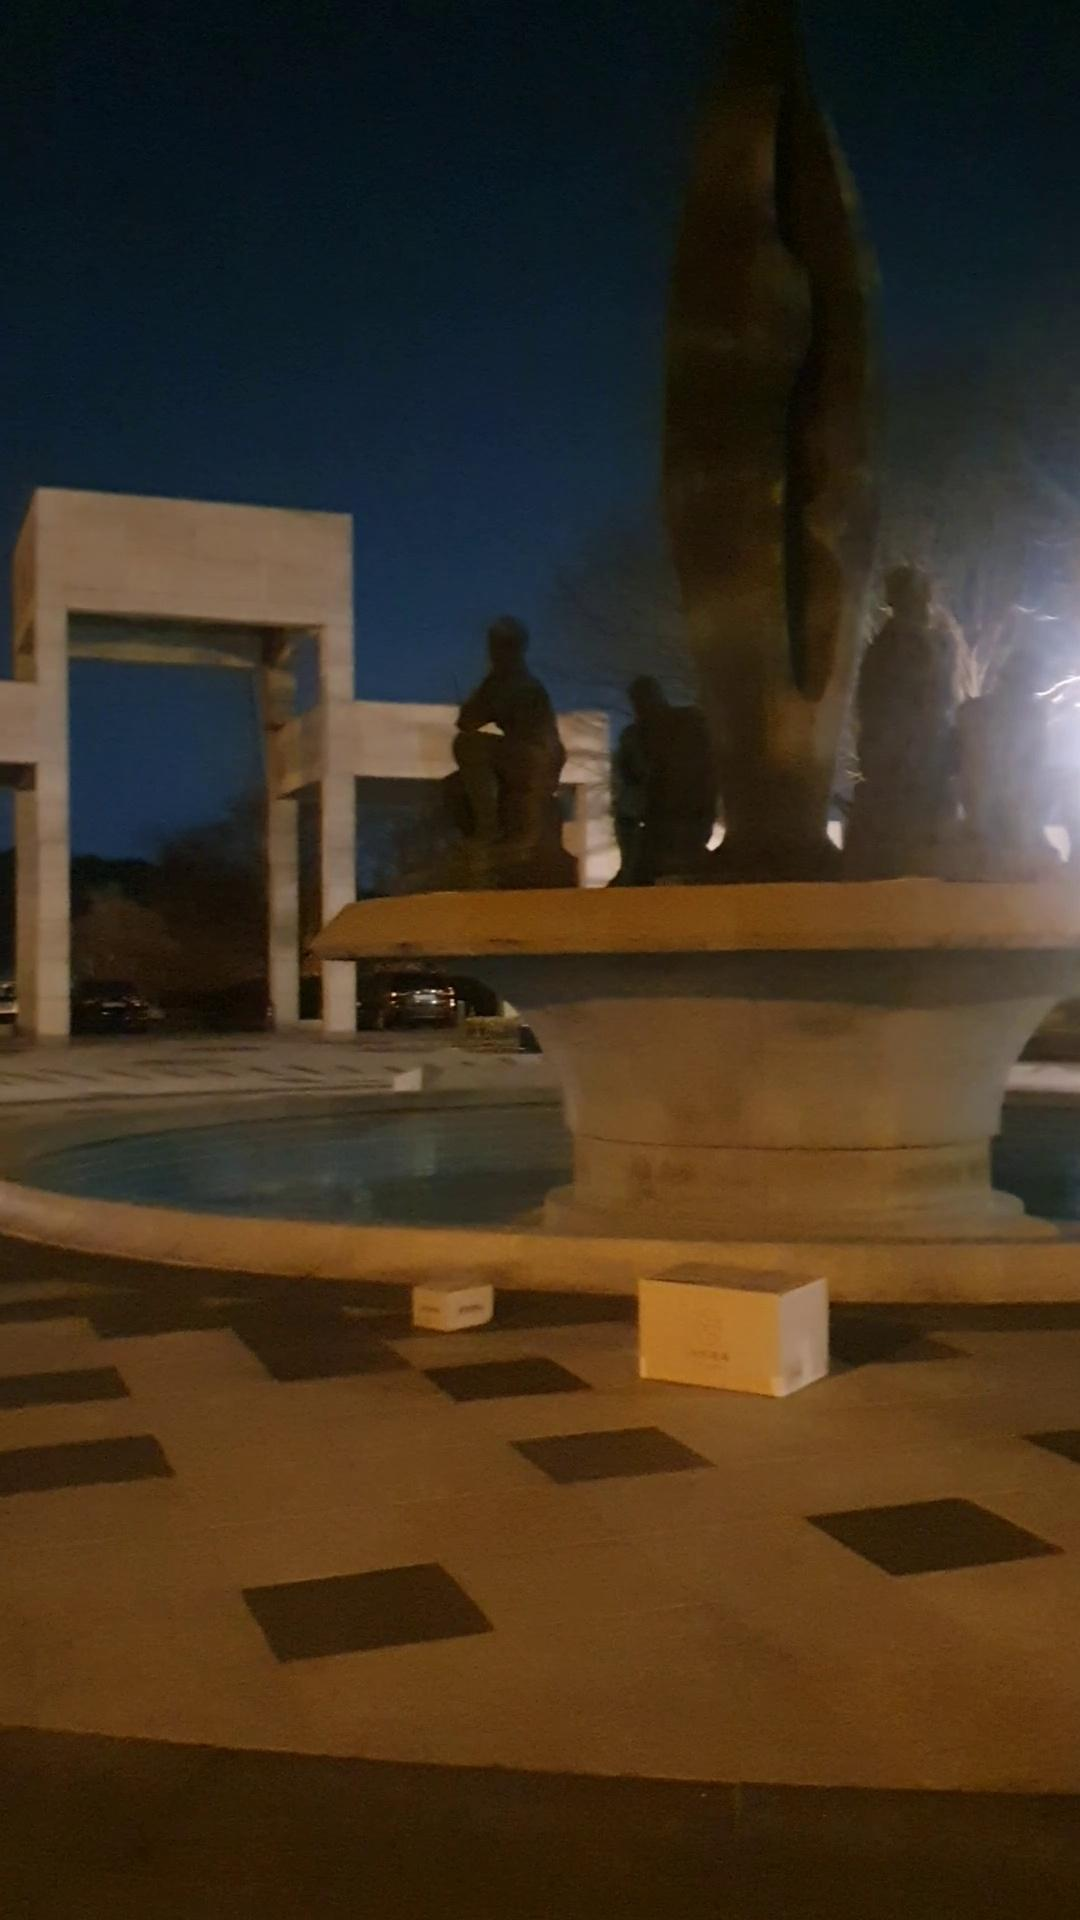Box: (611, 1250, 843, 1415), (401, 1265, 510, 1346)
